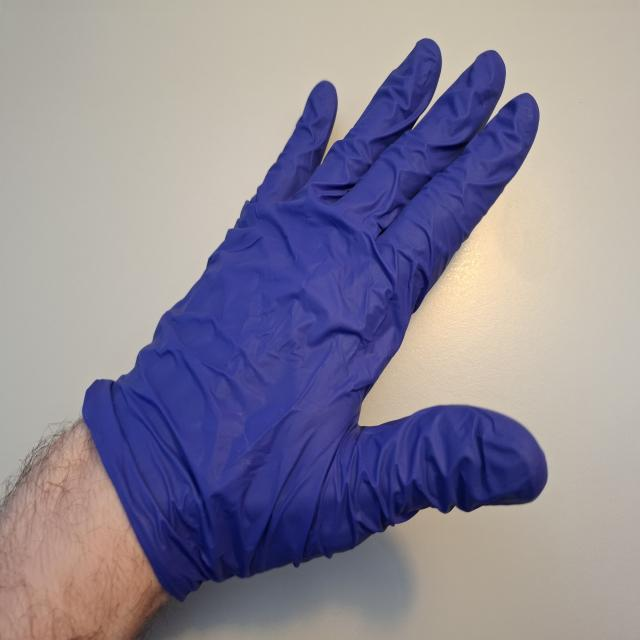glove_on: (73, 35, 551, 608)
